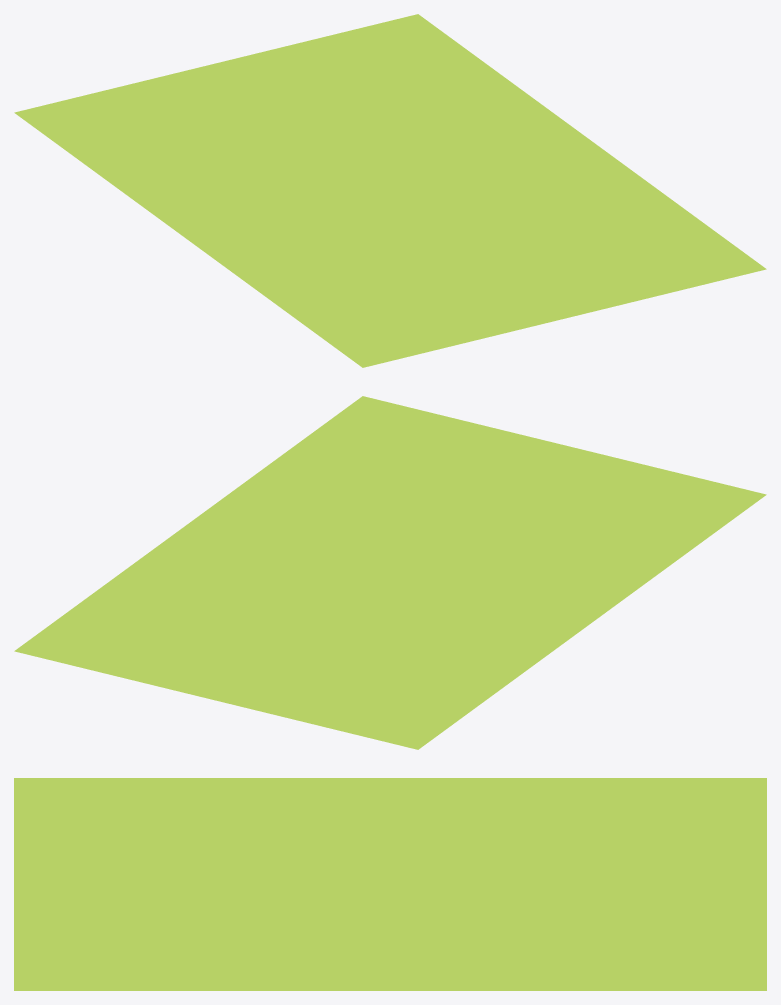
Rendered from ExtensionStartFloor.FBX.
3 views of the same model, one above another, from view 1: azimuth 30°, elevation 25°; view 2: azimuth 150°, elevation 25°; view 3: azimuth 270°, elevation 25° (orthographic). The views are drawn at different scales.
Parts seen in each view (by area): view 1: StartFloor; view 2: StartFloor; view 3: StartFloor.
Part boxes in pixels (bbox=[...]): StartFloor: bbox=[14, 14, 766, 367]; StartFloor: bbox=[14, 396, 766, 749]; StartFloor: bbox=[14, 778, 766, 990].
Size of the model in its own units: 380 by 568 by 0.000241.
